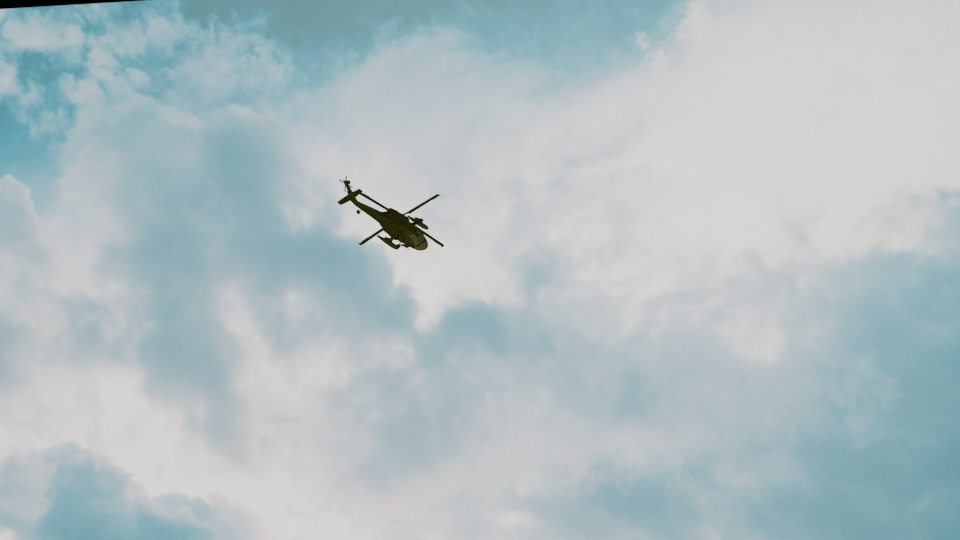heli: (336, 174, 445, 250)
